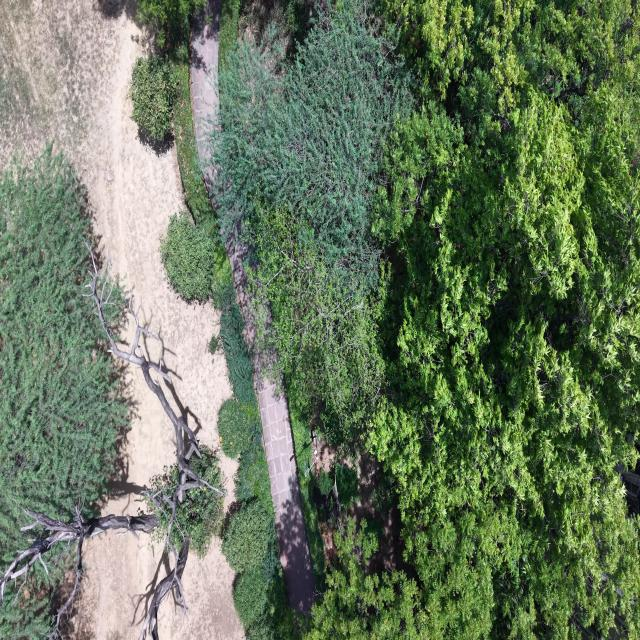DRY_AREA: (0, 0, 231, 448), (255, 355, 316, 613)
PATHWAYS: (255, 361, 315, 613)
VEGETATION_TREE: (214, 0, 639, 639), (214, 0, 639, 638), (368, 2, 639, 637), (368, 88, 639, 637), (0, 147, 224, 639), (0, 147, 223, 639), (0, 253, 225, 639), (215, 12, 407, 464), (213, 11, 409, 437), (158, 27, 292, 639), (214, 11, 406, 291), (0, 147, 127, 569), (30, 399, 221, 634), (245, 204, 383, 440), (207, 278, 293, 639), (130, 0, 231, 301), (130, 3, 231, 301), (214, 283, 293, 639), (135, 0, 226, 270), (130, 32, 225, 263), (157, 41, 231, 301), (304, 518, 428, 639), (170, 43, 231, 286), (291, 410, 361, 592), (223, 500, 292, 639), (170, 42, 218, 240), (290, 405, 326, 591), (160, 212, 217, 302), (214, 283, 255, 406), (238, 0, 314, 57), (129, 54, 178, 142), (223, 501, 275, 573), (236, 422, 273, 514), (137, 0, 206, 48), (234, 567, 273, 638), (144, 464, 178, 543), (218, 398, 261, 458), (316, 462, 361, 508), (276, 0, 313, 52), (219, 0, 240, 72), (333, 464, 360, 507), (370, 475, 395, 513), (317, 471, 334, 496), (208, 335, 220, 355)
